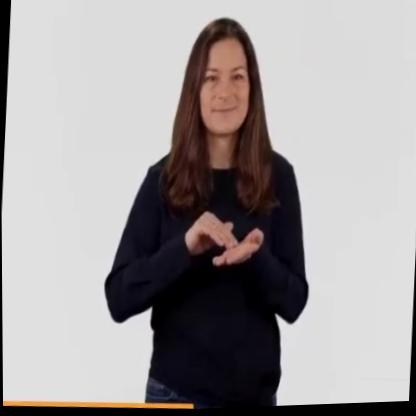ExcuseMe: (176, 204, 267, 280)
